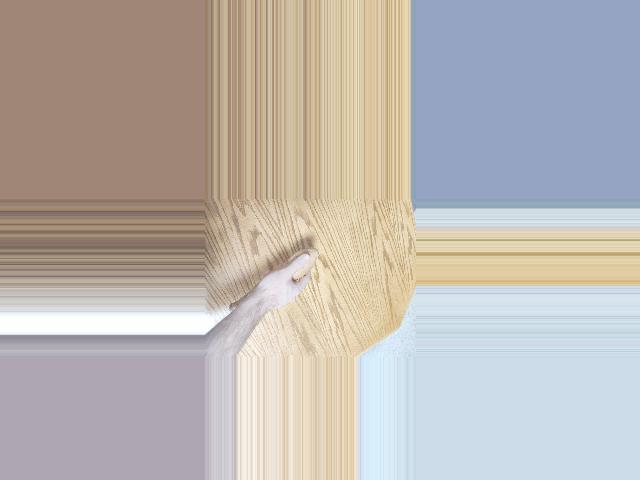sweet_potato: (224, 247, 319, 318)
